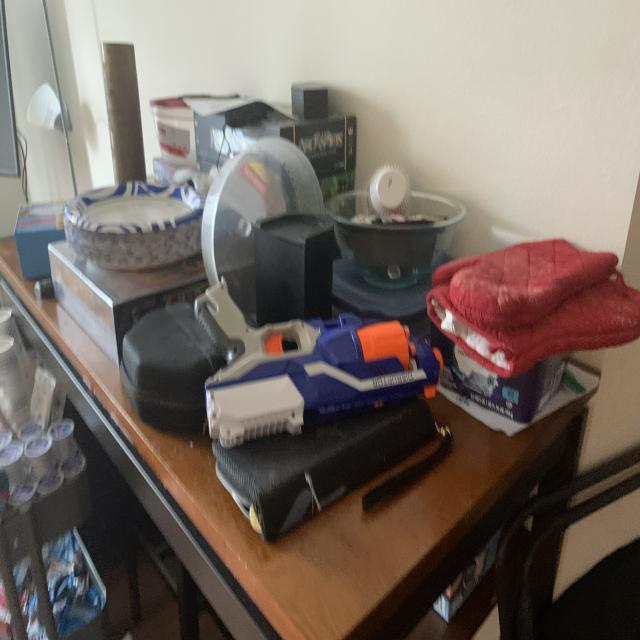nerf-maverik: (183, 270, 455, 457)
